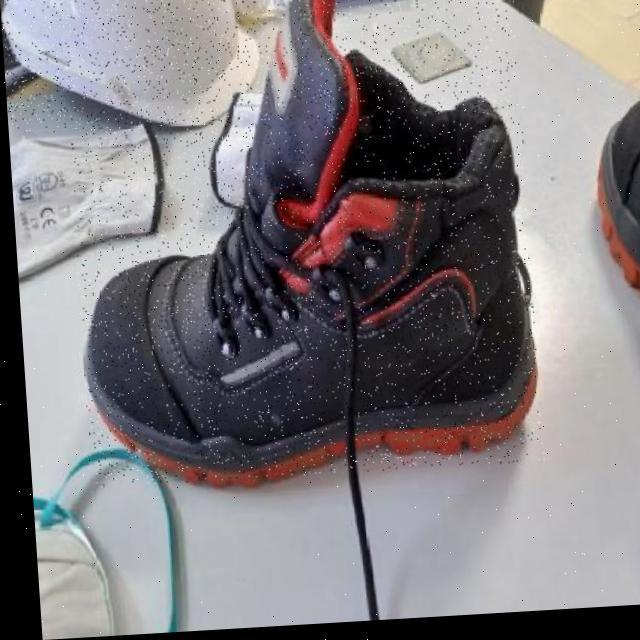Safety-Boot: (61, 0, 541, 496)
